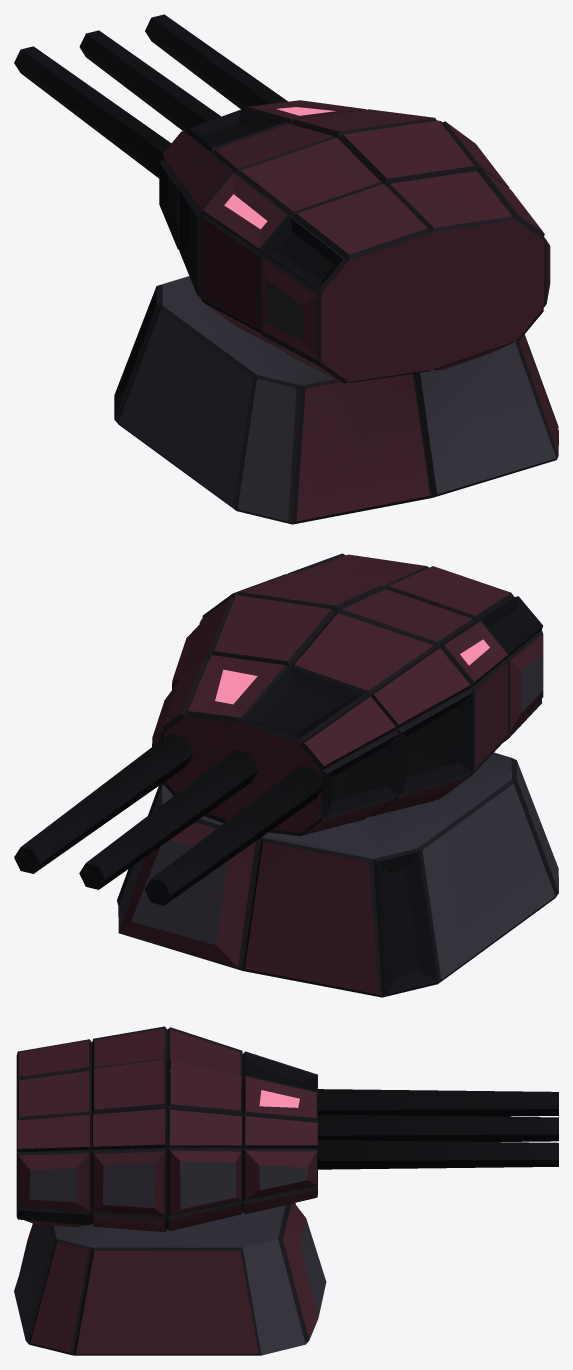
Rendered from stationTurret.glb.
The picture shows the model from 3 angles, top to bottom: view 1: azimuth 30°, elevation 25°; view 2: azimuth 150°, elevation 25°; view 3: azimuth 270°, elevation 25°; orthographic projection. The views are drawn at different scales.
Visible parts, largest first — view 1: stationTurret; view 2: stationTurret; view 3: stationTurret.
Part boxes in pixels (x1,y1,x2,y2): stationTurret: [14, 14, 558, 524]; stationTurret: [14, 553, 558, 997]; stationTurret: [14, 1026, 558, 1355].
Bounding box in the file's own units: 49.57 × 42.89 × 90.
